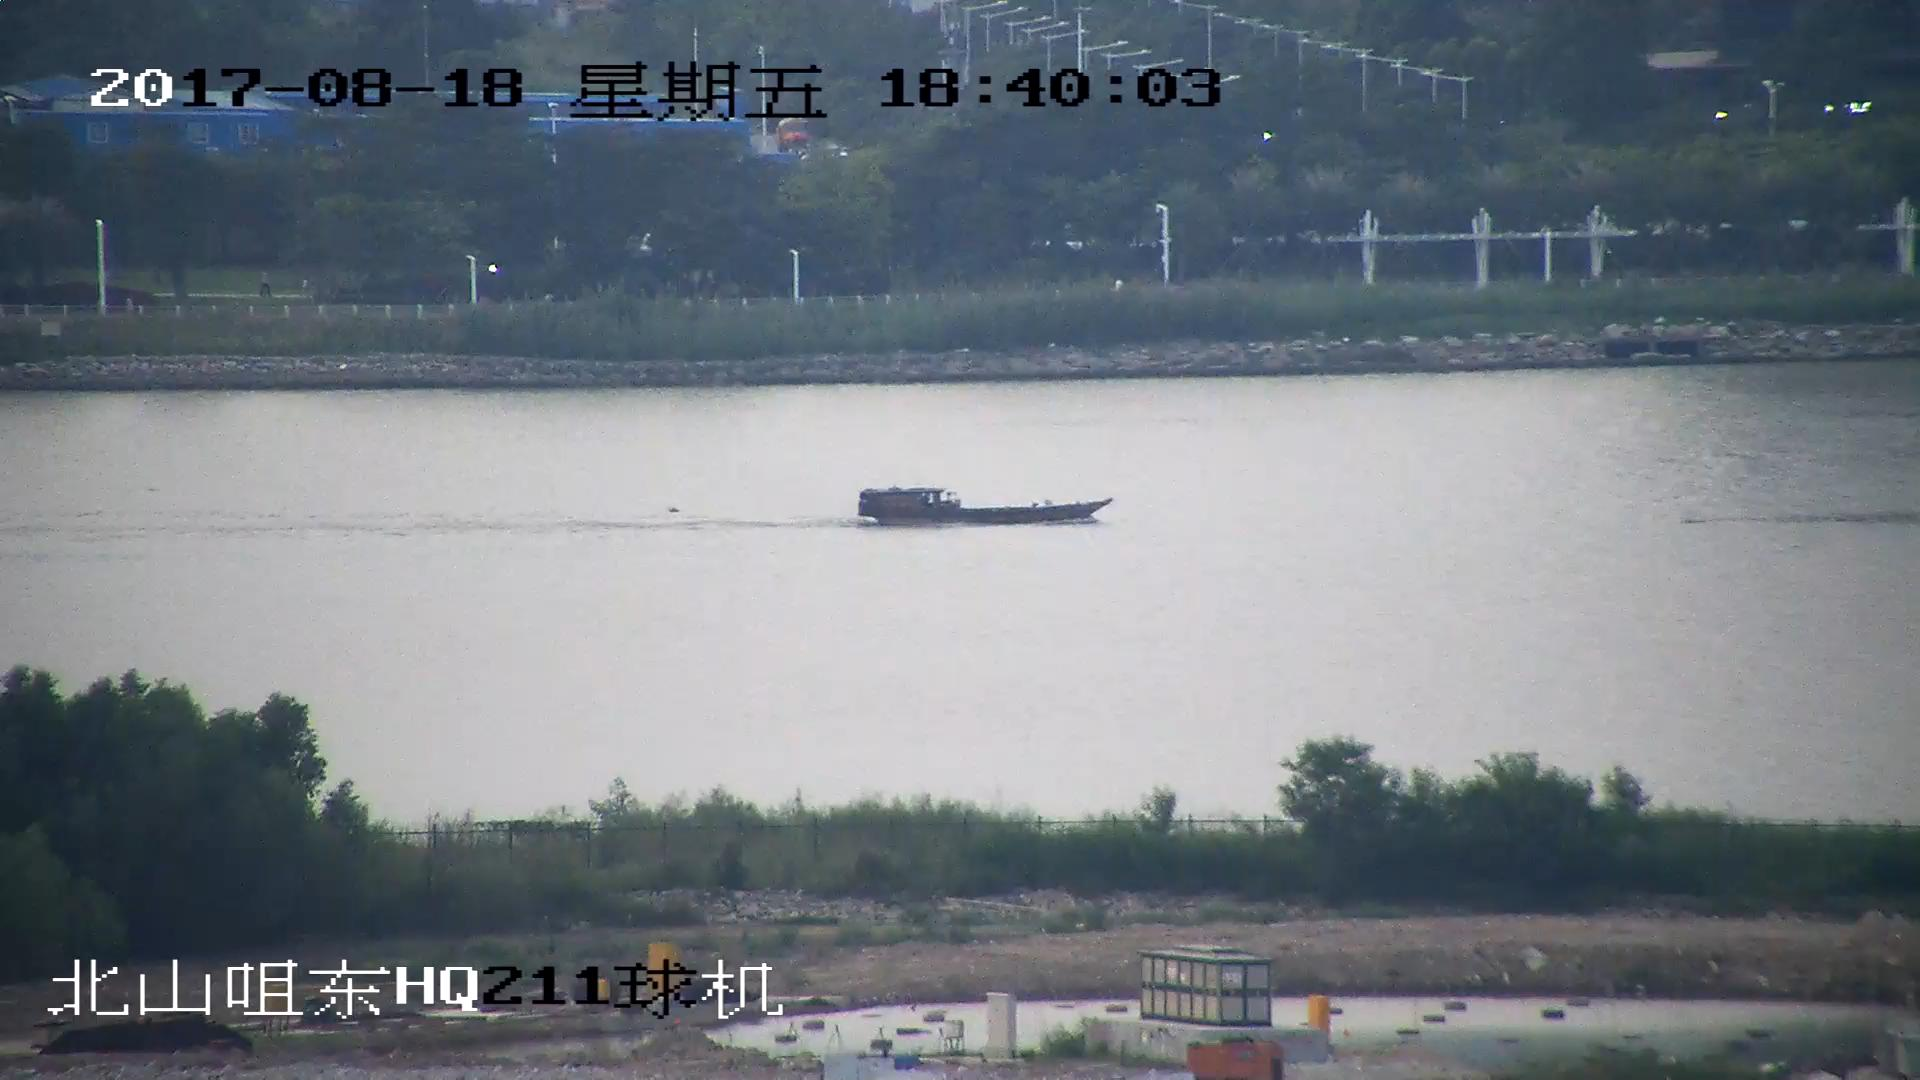fishing boat: (858, 480, 1116, 526)
